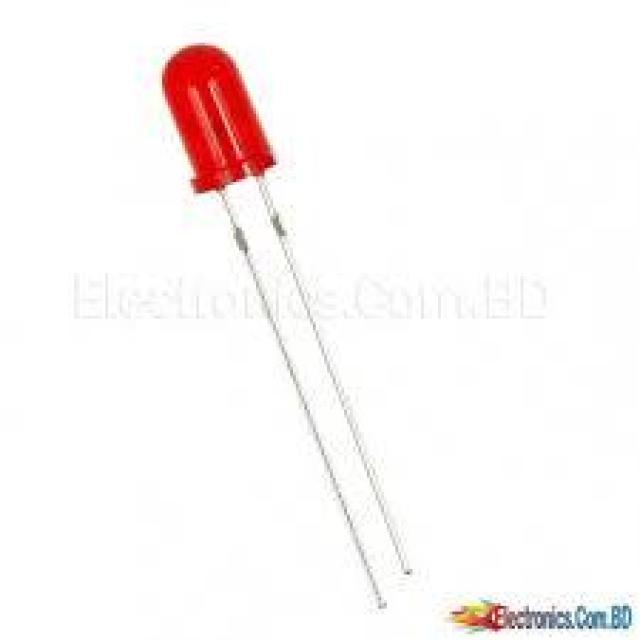Led: (162, 48, 409, 573)
